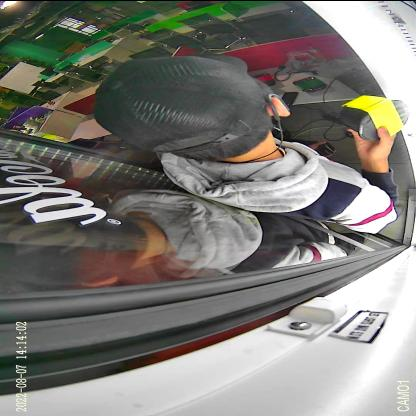yellow: (339, 94, 409, 140)
